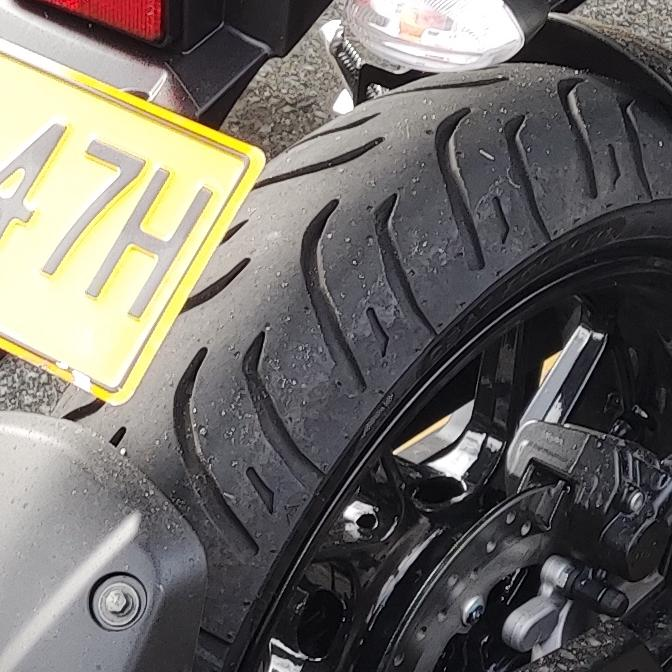plates: (0, 38, 268, 408)
